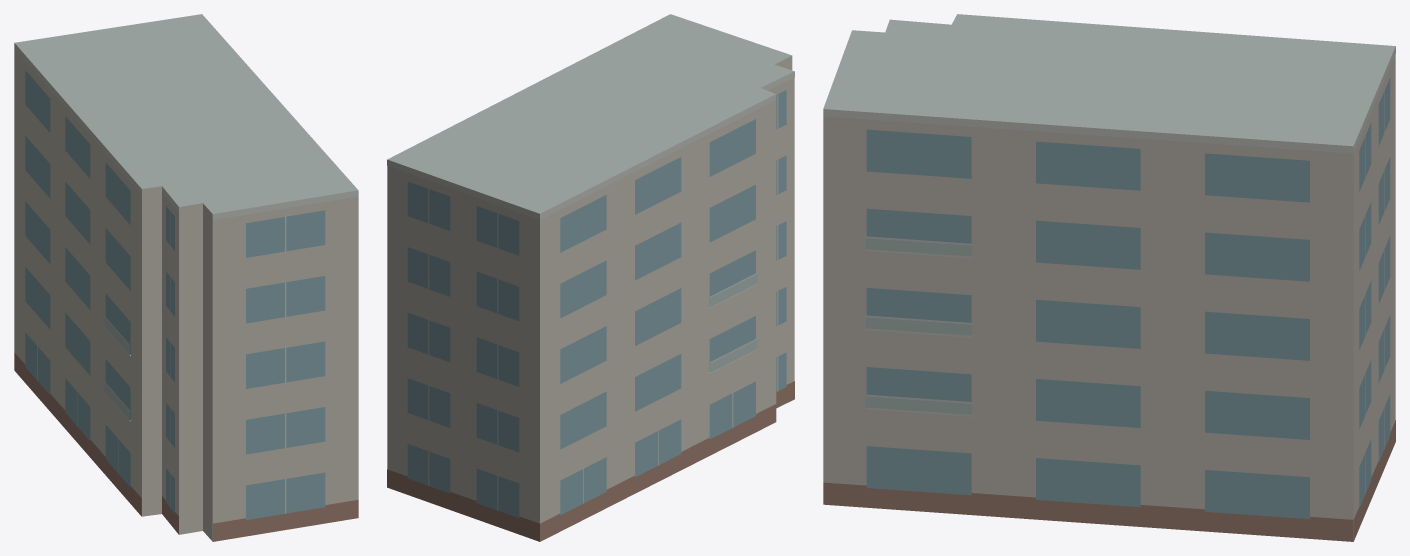
Rendered from survey-upis-32877804.glb.
3 views of the same model, side by side, from view 1: azimuth 30°, elevation 25°; view 2: azimuth 150°, elevation 25°; view 3: azimuth 270°, elevation 25° (orthographic). The views are drawn at different scales.
Parts seen in each view (by area): view 1: survey-upis-32877804.tmp; view 2: survey-upis-32877804.tmp; view 3: survey-upis-32877804.tmp.
Boxes of the visible parts, x1,y1,x2,y2 form: survey-upis-32877804.tmp: [14, 14, 358, 541]; survey-upis-32877804.tmp: [387, 14, 794, 541]; survey-upis-32877804.tmp: [823, 14, 1395, 541].
Bounding box in the file's own units: 9.47 × 13.2 × 17.33.
